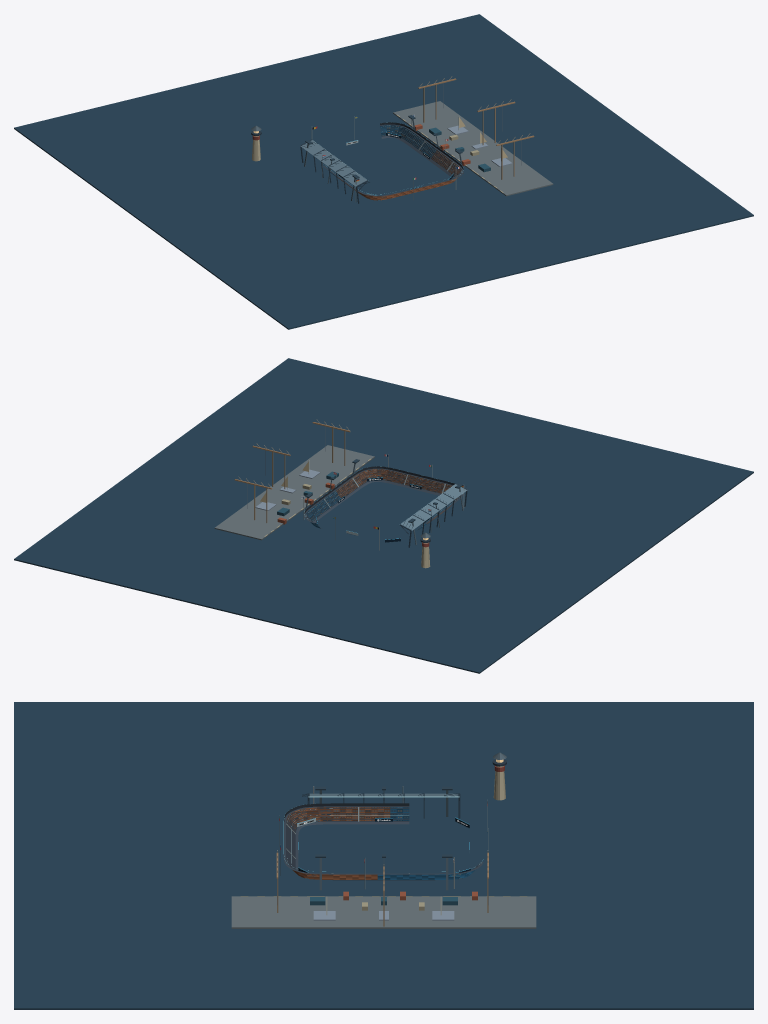
The model's file is harbor-v2.glb.
The picture shows the model from 3 angles, top to bottom: view 1: azimuth 30°, elevation 25°; view 2: azimuth 150°, elevation 25°; view 3: azimuth 270°, elevation 25°; orthographic projection. The views are drawn at different scales.
Parts seen in each view (by area): view 1: Arena architecture / harbor; view 2: Arena architecture / harbor; view 3: Arena architecture / harbor, Arena lettering and light ribbons / harbor.
Boxes of the visible parts, <box> form: Arena architecture / harbor: <box>14,14,753,329</box>; Arena architecture / harbor: <box>14,358,753,673</box>; Arena architecture / harbor: <box>14,702,753,1009</box>; Arena lettering and light ribbons / harbor: <box>283,759,503,872</box>.
Bounding box in the file's own units: 61300 × 5324 × 62600.
Materials: 4 (2 with a texture image).
